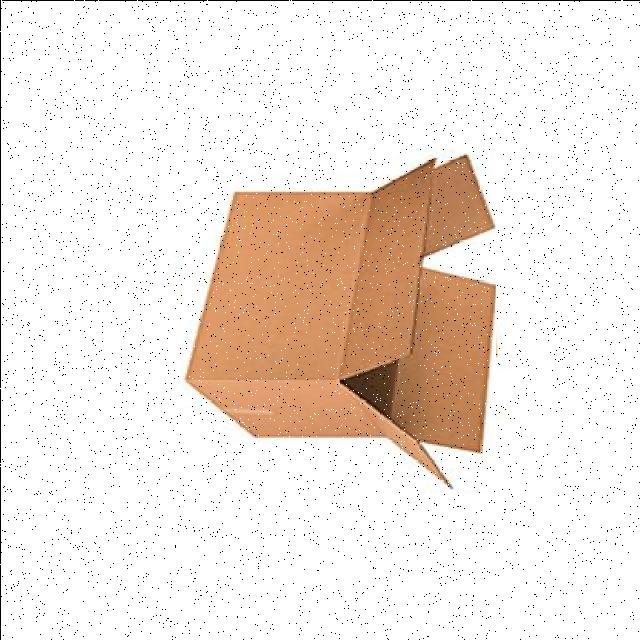defect: (180, 151, 495, 489)
